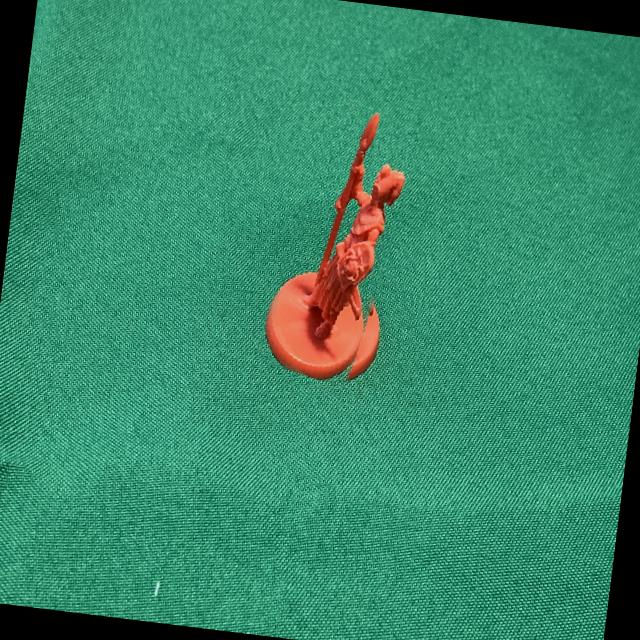amon_follower: (265, 112, 405, 379)
